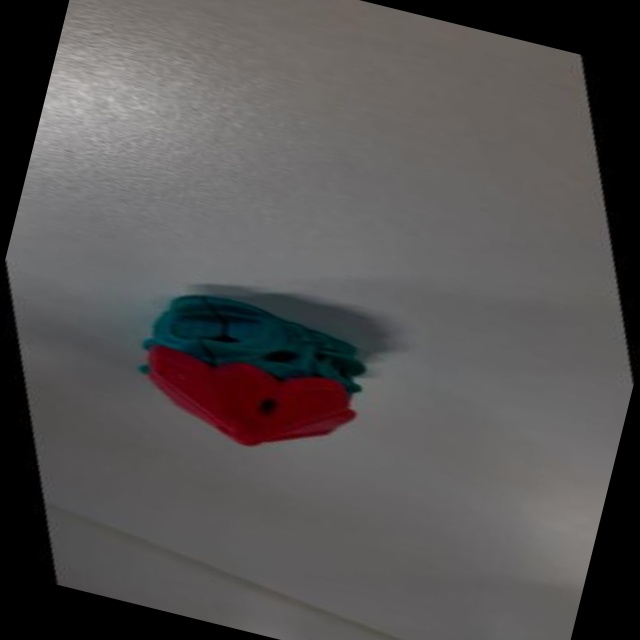House: (88, 258, 446, 503)
